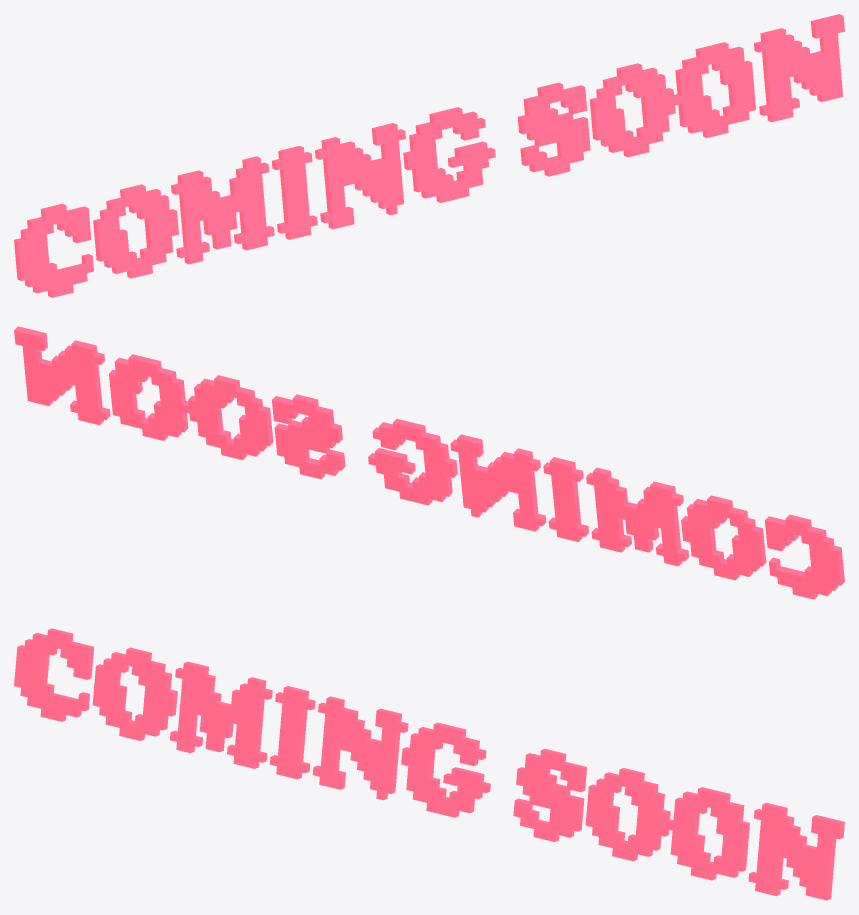
3 renders of one model, top to bottom at view 1: azimuth 30°, elevation 25°; view 2: azimuth 150°, elevation 25°; view 3: azimuth 330°, elevation 25°, orthographic.
Parts seen in each view (by area): view 1: Text; view 2: Text; view 3: Text.
Part boxes in pixels (x1,y1,x2,y2): Text: (14, 14, 844, 297); Text: (14, 326, 844, 599); Text: (14, 628, 844, 900).
Bounding box in the file's own units: 655 × 62.7 × 15.8.
